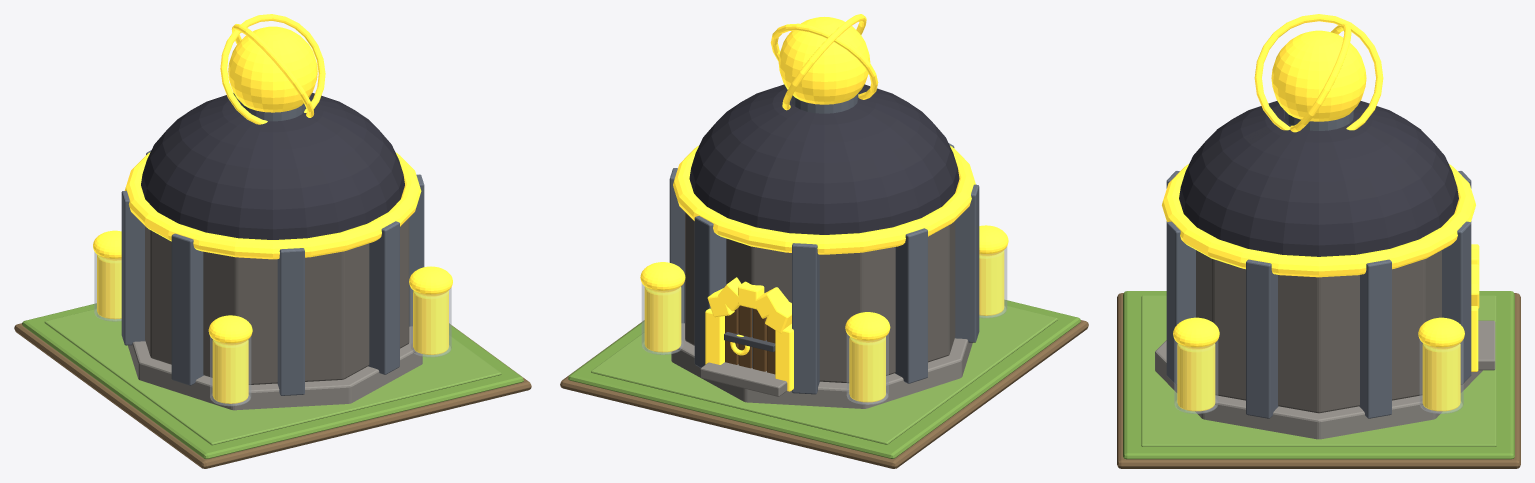
File: laboratory_lv8.glb
The picture shows the model from 3 angles, left to right: view 1: azimuth 30°, elevation 25°; view 2: azimuth 150°, elevation 25°; view 3: azimuth 270°, elevation 25°; orthographic projection. The views are drawn at different scales.
Visible parts, largest first — view 1: LabDome, LabWallDrum, Base_Inner, Base_Grass, LabDomeRim, LabPlinth, ArcaneOrb, Base_Dirt, LabPillar_4, LabPillar_6, LabPillar_5, LabPillar_3 (+13 smaller); view 2: LabDome, LabWallDrum, Base_Inner, Base_Grass, LabDomeRim, Base_Dirt, ArcaneOrb, LabPlinth, LabPillar_3, LabPillar_2, LabPillar_4, LabPillar_1 (+20 smaller); view 3: LabDome, LabWallDrum, Base_Inner, Base_Grass, LabDomeRim, ArcaneOrb, Base_Dirt, LabPlinth, LabPillar_0, LabPillar_7, LabPillar_1, LabPillar_6 (+11 smaller).
Boxes of the visible parts, x1=… form: LabDome: x1=141, y1=93, x2=404, y2=239; LabWallDrum: x1=145, y1=218, x2=409, y2=384; Base_Inner: x1=44, y1=309, x2=501, y2=445; Base_Grass: x1=22, y1=303, x2=523, y2=458; LabDomeRim: x1=124, y1=152, x2=421, y2=259; LabPlinth: x1=128, y1=326, x2=422, y2=410; ArcaneOrb: x1=228, y1=26, x2=317, y2=112; Base_Dirt: x1=14, y1=323, x2=531, y2=468; LabPillar_4: x1=171, y1=233, x2=203, y2=385; LabPillar_6: x1=368, y1=221, x2=399, y2=374; LabPillar_5: x1=277, y1=248, x2=304, y2=395; LabPillar_3: x1=121, y1=190, x2=145, y2=345; LabDome: x1=689, y1=84, x2=959, y2=234; LabWallDrum: x1=685, y1=212, x2=955, y2=383; Base_Inner: x1=591, y1=305, x2=1057, y2=444; Base_Grass: x1=568, y1=300, x2=1080, y2=458; LabDomeRim: x1=673, y1=145, x2=975, y2=254; Base_Dirt: x1=560, y1=320, x2=1088, y2=468; ArcaneOrb: x1=778, y1=17, x2=870, y2=104; LabPlinth: x1=671, y1=323, x2=972, y2=408; LabPillar_3: x1=895, y1=228, x2=927, y2=383; LabPillar_2: x1=792, y1=243, x2=819, y2=394; LabPillar_4: x1=955, y1=184, x2=979, y2=342; LabPillar_1: x1=694, y1=216, x2=726, y2=367; LabDome: x1=1179, y1=101, x2=1458, y2=256; LabWallDrum: x1=1196, y1=250, x2=1441, y2=413; Base_Inner: x1=1141, y1=295, x2=1496, y2=446; Base_Grass: x1=1123, y1=291, x2=1514, y2=459; LabDomeRim: x1=1162, y1=164, x2=1475, y2=277; ArcaneOrb: x1=1271, y1=30, x2=1366, y2=121; Base_Dirt: x1=1117, y1=293, x2=1520, y2=468; LabPlinth: x1=1155, y1=340, x2=1482, y2=439; LabPillar_0: x1=1359, y1=259, x2=1391, y2=418; LabPillar_7: x1=1246, y1=259, x2=1278, y2=418; LabPillar_1: x1=1442, y1=221, x2=1471, y2=384; LabPillar_6: x1=1166, y1=221, x2=1195, y2=384.
Bounding box in the file's own units: 2.76 × 2.7 × 2.76.
